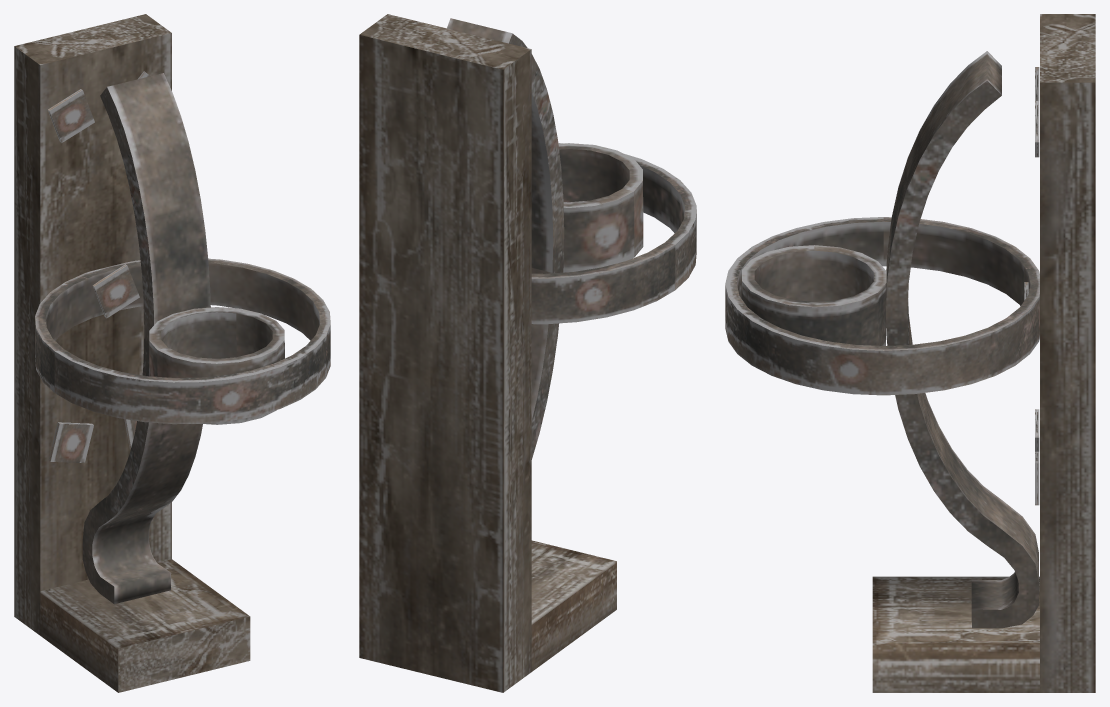
File: SM_Torch03.FBX
3 views of the same model, side by side, from view 1: azimuth 30°, elevation 25°; view 2: azimuth 150°, elevation 25°; view 3: azimuth 270°, elevation 25° (orthographic). The views are drawn at different scales.
Parts seen in each view (by area): view 1: SM_Torch03; view 2: SM_Torch03; view 3: SM_Torch03.
Part boxes in pixels (x1,y1,x2,y2): SM_Torch03: [14, 14, 330, 692]; SM_Torch03: [359, 14, 696, 692]; SM_Torch03: [725, 14, 1095, 692].
Size of the model in its own units: 42.51 by 49.68 by 90.31.
